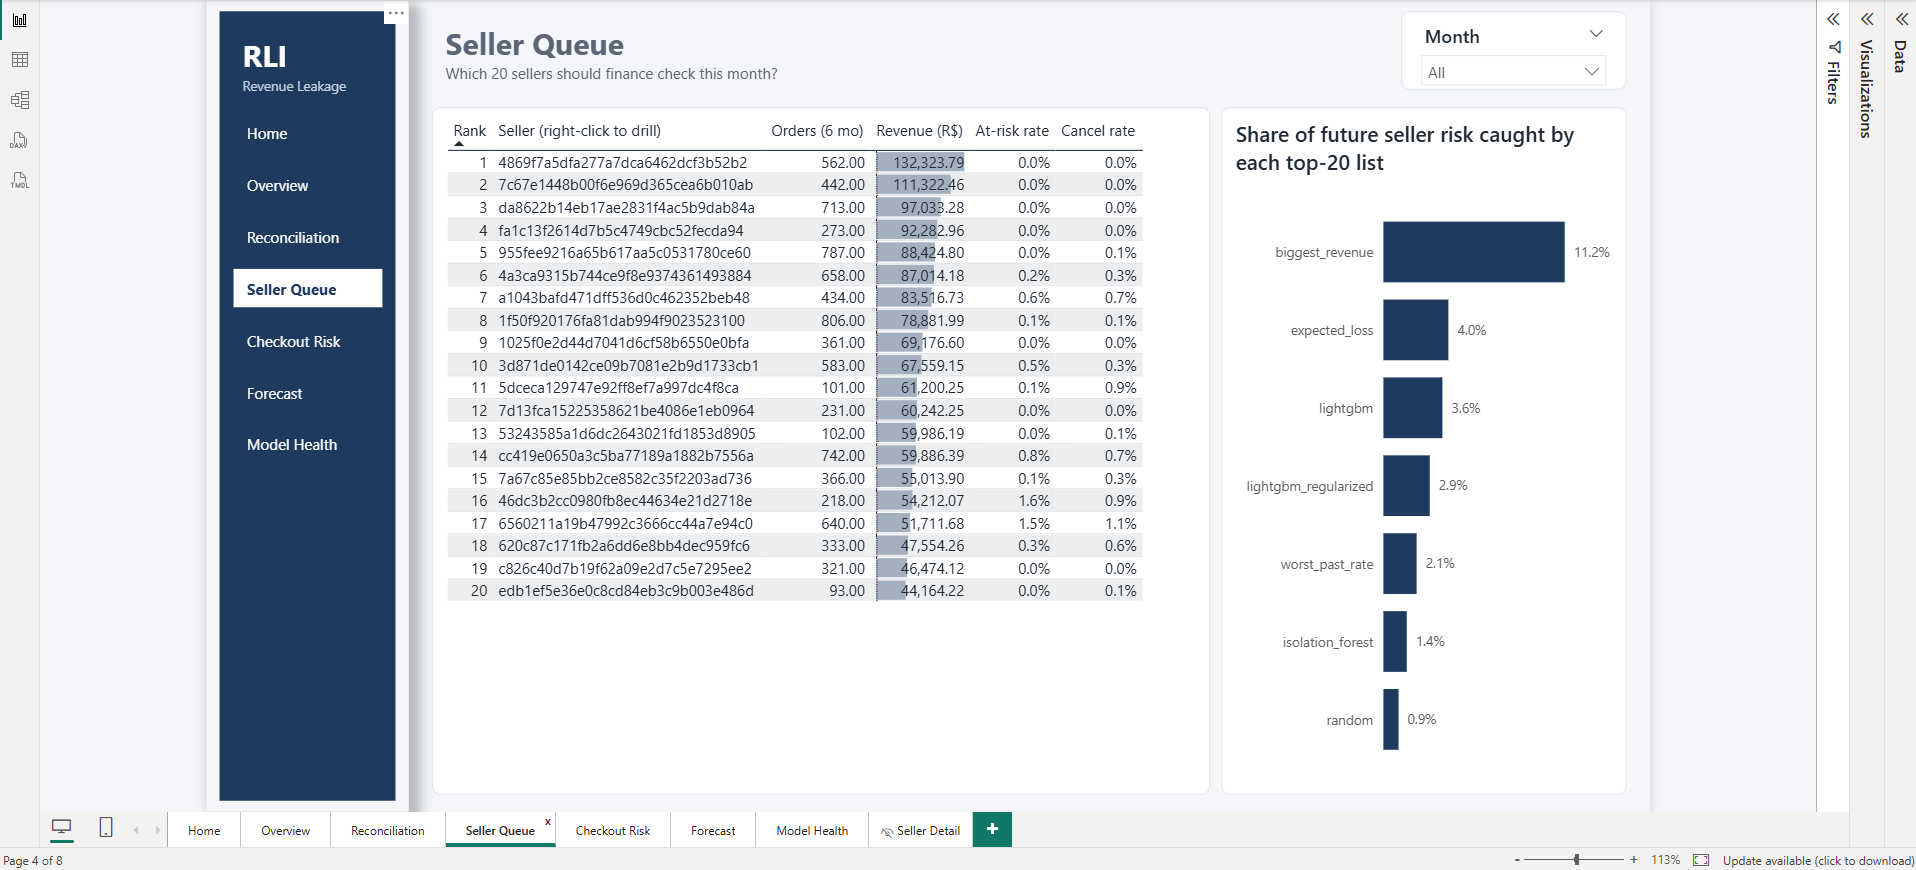

The dashboard page shown, as its layout file describes it:
{"tool":"powerbi","page":{"name":"Seller Queue","canvas":[1280,720],"ordinal":3},"visuals":[{"type":"shape","box":[0,0,180,720],"z":0},{"type":"pageNavigator","box":[12,90,156,330],"z":1},{"type":"textbox","box":[20,20,150,78],"z":2},{"type":"textbox","box":[200,10,600,75],"z":3},{"type":"slicer","fields":{"Values":["DimDate.Month"]},"box":[1060,10,200,70],"z":4},{"type":"tableEx","fields":{"Values":["Sum(ml_seller_queue.queue_rank)","dim_seller.seller_id","Sum(ml_seller_queue.orders)","Sum(ml_seller_queue.revenue_rs)","Sum(ml_seller_queue.at_risk_rate)","Sum(ml_seller_queue.cancel_rate)"]},"box":[200,95,690,610],"z":5},{"type":"clusteredBarChart","title":"Share of future seller risk caught by each top-20 list","fields":{"Category":["ml_seller_risk_backtest.method"],"Y":["Avg(ml_seller_risk_backtest.capture)"]},"box":[900,95,360,610],"z":6}]}

Visuals, with their boxes on the page's 1280x720 design canvas (x1, y1, x2, y2). These are canvas units, not pixel positions in the 1916x870 screenshot, which may show the page scaled, cropped or inside an application window:
shape: [0,0,180,720]
pageNavigator: [12,90,168,420]
textbox: [20,20,170,98]
textbox: [200,10,800,85]
slicer - DimDate.Month: [1060,10,1260,80]
tableEx - Sum(ml_seller_queue.queue_rank) x dim_seller.seller_id: [200,95,890,705]
"Share of future seller risk caught by each top-20 list" clusteredBarChart: [900,95,1260,705]
